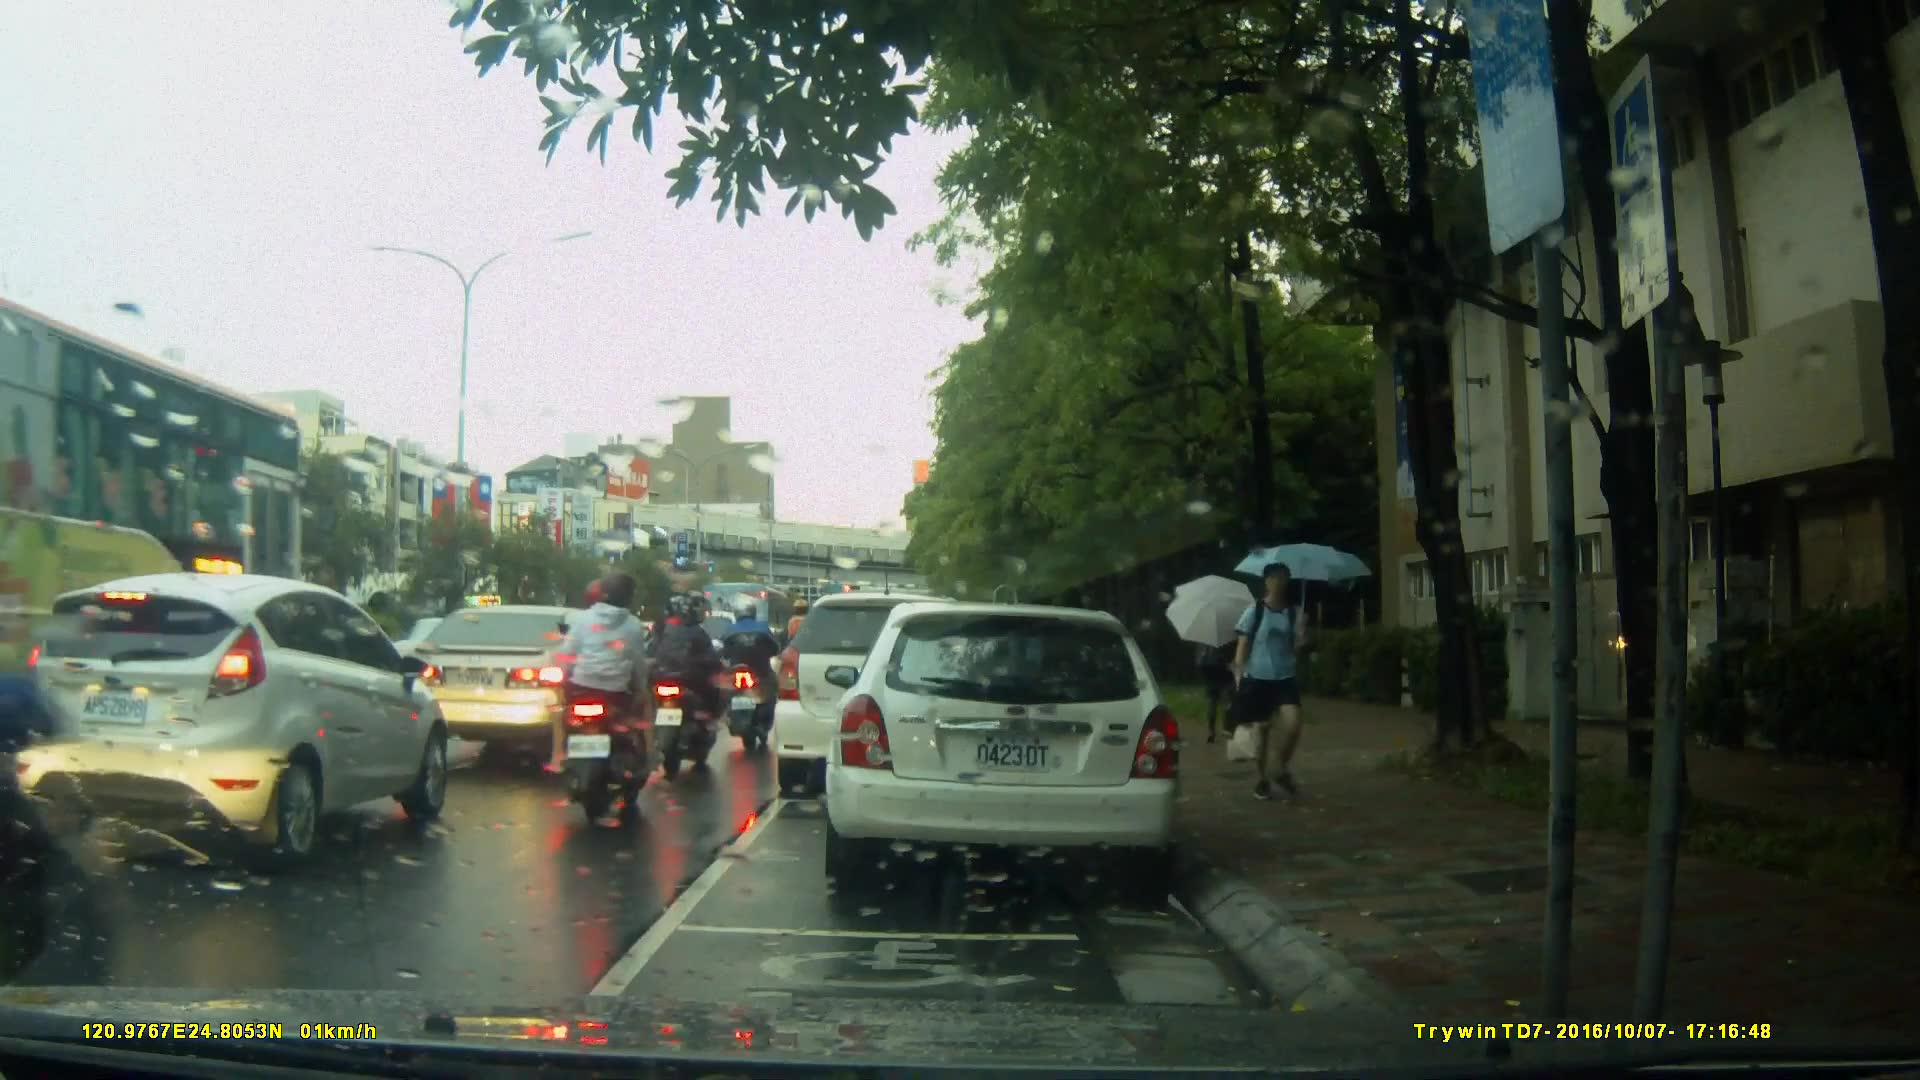pedestrian: (1223, 555, 1318, 813), (1208, 597, 1258, 741)
rider: (548, 563, 663, 840), (651, 591, 719, 781), (721, 593, 780, 746), (785, 597, 823, 734)
vehicle: (1, 292, 311, 765), (8, 569, 452, 872), (835, 594, 1194, 898), (776, 590, 1026, 784), (383, 603, 644, 767), (602, 619, 728, 717), (703, 581, 810, 672)
